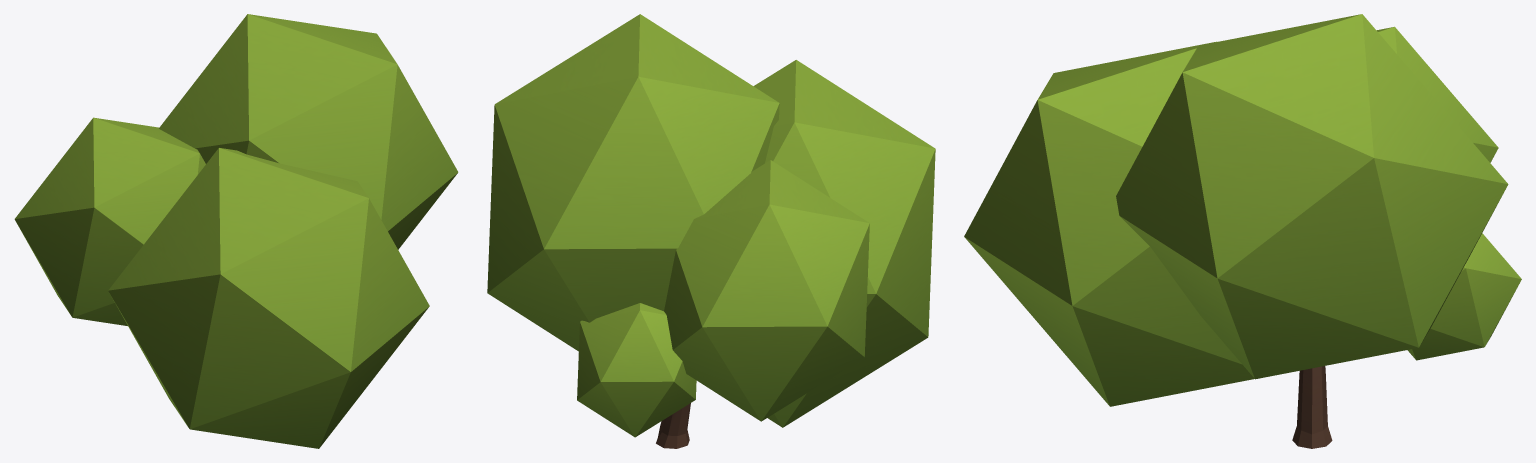
File: arbusto4.fbx
3 renders of one model, left to right at view 1: azimuth 30°, elevation 25°; view 2: azimuth 150°, elevation 25°; view 3: azimuth 270°, elevation 25°, orthographic. The views are drawn at different scales.
Visible parts, largest first — view 1: arbusto20; view 2: arbusto20; view 3: arbusto20.
Part boxes in pixels (x1,y1,x2,y2): arbusto20: (14,14,458,448); arbusto20: (487,14,935,448); arbusto20: (964,14,1521,448).
Bounding box in the file's own units: 218 × 212 × 248.
